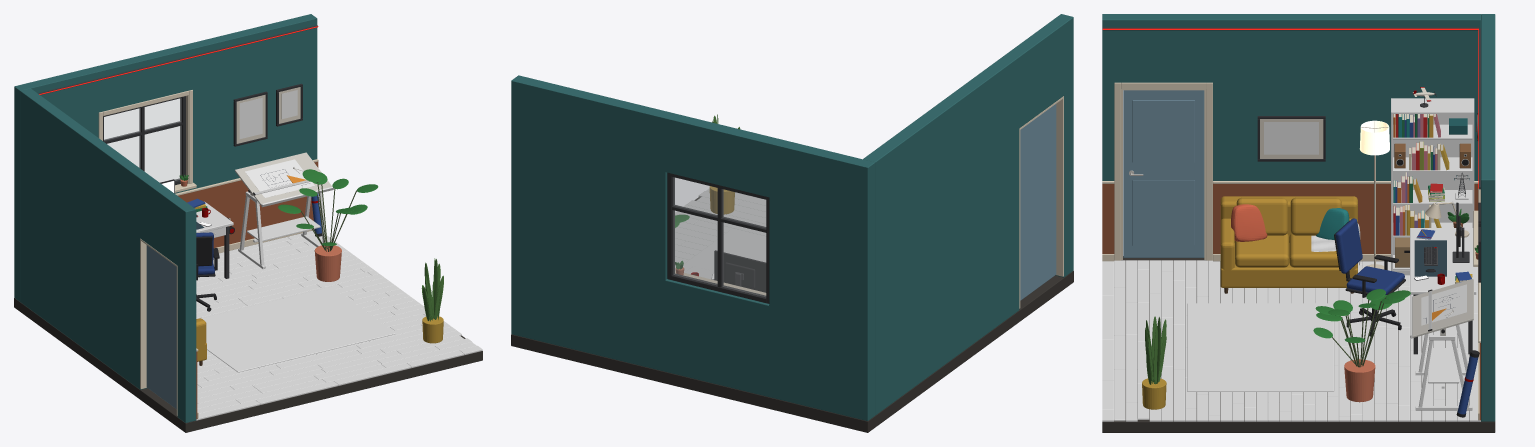
File: room-baked.glb
The picture shows the model from 3 angles, left to right: view 1: azimuth 30°, elevation 25°; view 2: azimuth 150°, elevation 25°; view 3: azimuth 270°, elevation 25°; orthographic projection. The views are drawn at different scales.
Visible parts, largest first — view 1: Wall_Left, Wall_Back, Floor_Parquet, Rug, Floor_Base, Door_Leaf, Window_Glass, Window_CityBackdrop, Wall_Back_Panel, Draft_Paper, Plant_Big_Leaves, Draft_Board (+16 smaller); view 2: Wall_Back, Wall_Left, Window_Glass, Floor_Base, Door_Leaf, Floor_Parquet, Rug, Door_Jamb_A, Monitor_Body, Window_Frame_R, Window_Frame_B, Window_Mullion (+1 smaller); view 3: Wall_Left, Floor_Parquet, Rug, Wall_Back, Door_Leaf, Floor_Base, Wall_Left_Panel_A, Door_Panel_Bot, Door_Panel_Top, Shelf_Back, Sofa_Base, Desk_Top (+40 smaller).
Boxes of the visible parts, left/top/right/bottom form: Wall_Left: left=20, top=88, right=196, bottom=422; Wall_Back: left=14, top=14, right=317, bottom=301; Floor_Parquet: left=196, top=230, right=482, bottom=420; Rug: left=201, top=286, right=395, bottom=372; Floor_Base: left=14, top=298, right=482, bottom=432; Door_Leaf: left=146, top=245, right=176, bottom=408; Window_Glass: left=104, top=98, right=181, bottom=182; Window_CityBackdrop: left=104, top=98, right=179, bottom=182; Wall_Back_Panel: left=178, top=161, right=318, bottom=247; Draft_Paper: left=245, top=159, right=314, bottom=197; Plant_Big_Leaves: left=278, top=169, right=378, bottom=245; Draft_Board: left=235, top=152, right=331, bottom=205; Wall_Back: left=511, top=75, right=874, bottom=420; Wall_Left: left=863, top=14, right=1073, bottom=415; Window_Glass: left=673, top=177, right=765, bottom=296; Floor_Base: left=511, top=197, right=1073, bottom=432; Door_Leaf: left=1020, top=104, right=1056, bottom=300; Floor_Parquet: left=675, top=188, right=766, bottom=269; Rug: left=683, top=228, right=766, bottom=272; Door_Jamb_A: left=1056, top=96, right=1063, bottom=276; Monitor_Body: left=714, top=250, right=766, bottom=292; Window_Frame_R: left=667, top=172, right=674, bottom=279; Window_Frame_B: left=671, top=273, right=766, bottom=302; Window_Mullion: left=717, top=188, right=723, bottom=287; Wall_Left: left=1102, top=14, right=1480, bottom=180; Floor_Parquet: left=1102, top=260, right=1480, bottom=421; Rug: left=1187, top=303, right=1334, bottom=391; Wall_Back: left=1481, top=14, right=1495, bottom=421; Door_Leaf: left=1123, top=90, right=1204, bottom=257; Floor_Base: left=1102, top=256, right=1495, bottom=432; Wall_Left_Panel_A: left=1213, top=184, right=1478, bottom=253; Door_Panel_Bot: left=1132, top=180, right=1194, bottom=245; Door_Panel_Top: left=1132, top=100, right=1194, bottom=162; Shelf_Back: left=1391, top=98, right=1474, bottom=254; Sofa_Base: left=1220, top=243, right=1357, bottom=287; Desk_Top: left=1410, top=228, right=1476, bottom=294.
Size of the model in its own units: 4.15 by 2.95 by 4.42.
